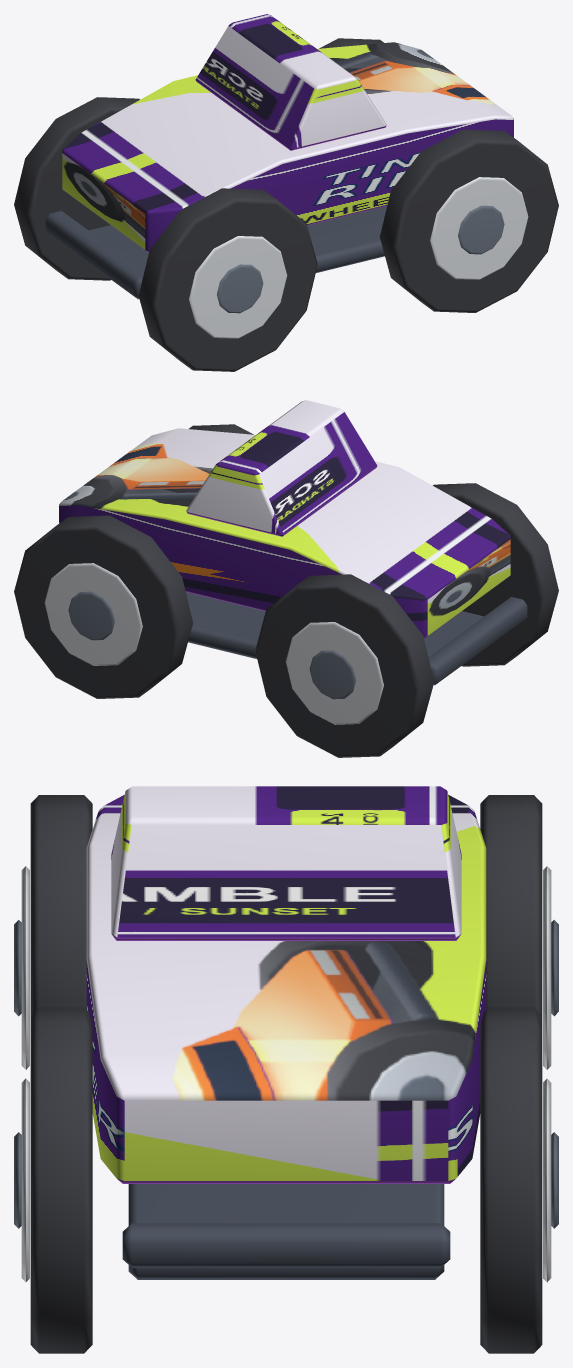
3 renders of one model, top to bottom at view 1: azimuth 30°, elevation 25°; view 2: azimuth 150°, elevation 25°; view 3: azimuth 270°, elevation 25°, orthographic. The views are drawn at different scales.
Parts seen in each view (by area): view 1: BW-05_connected_shell, Tire, Tire.002, BW-05_cabin, Tire.001, Rim.002, Rim, underbody, front bumper, Hub, Hub.002; view 2: BW-05_connected_shell, Tire.001, Tire.003, BW-05_cabin, Tire, Rim.003, Rim.001, underbody, front bumper, Hub.001, Hub.003; view 3: BW-05_connected_shell, BW-05_cabin, Tire.002, Tire.003, underbody, rear bumper, Tire, Tire.001, Rim, Rim.001, Rim.002, Rim.003 (+4 smaller).
Boxes of the visible parts, x1=… form: BW-05_connected_shell: x1=62, y1=42, x2=513, y2=252; Tire: x1=138, y1=188, x2=317, y2=371; Tire.002: x1=380, y1=129, x2=558, y2=312; BW-05_cabin: x1=195, y1=14, x2=386, y2=150; Tire.001: x1=14, y1=97, x2=139, y2=280; Rim.002: x1=430, y1=177, x2=528, y2=279; Rim: x1=189, y1=236, x2=287, y2=338; underbody: x1=89, y1=206, x2=386, y2=272; front bumper: x1=45, y1=211, x2=144, y2=299; Hub: x1=216, y1=264, x2=263, y2=313; Hub.002: x1=458, y1=205, x2=504, y2=254; BW-05_connected_shell: x1=59, y1=428, x2=510, y2=638; Tire.001: x1=255, y1=574, x2=434, y2=757; Tire.003: x1=14, y1=515, x2=192, y2=698; BW-05_cabin: x1=186, y1=400, x2=377, y2=536; Tire: x1=433, y1=483, x2=558, y2=666; Rim.003: x1=44, y1=563, x2=142, y2=665; Rim.001: x1=285, y1=622, x2=383, y2=724; underbody: x1=186, y1=592, x2=483, y2=658; front bumper: x1=428, y1=597, x2=527, y2=685; Hub.001: x1=309, y1=650, x2=356, y2=699; Hub.003: x1=68, y1=591, x2=114, y2=640; BW-05_connected_shell: x1=86, y1=795, x2=486, y2=1183; BW-05_cabin: x1=111, y1=786, x2=461, y2=940; Tire.002: x1=30, y1=1007, x2=92, y2=1353; Tire.003: x1=480, y1=1007, x2=542, y2=1353; underbody: x1=128, y1=1184, x2=444, y2=1279; rear bumper: x1=122, y1=1223, x2=450, y2=1267; Tire: x1=30, y1=795, x2=92, y2=1015; Tire.001: x1=480, y1=795, x2=542, y2=1015; Rim: x1=21, y1=866, x2=29, y2=1069; Rim.001: x1=543, y1=866, x2=551, y2=1069; Rim.002: x1=21, y1=1078, x2=29, y2=1282; Rim.003: x1=543, y1=1078, x2=551, y2=1282.
Size of the model in its own units: 357 by 202 by 229.
